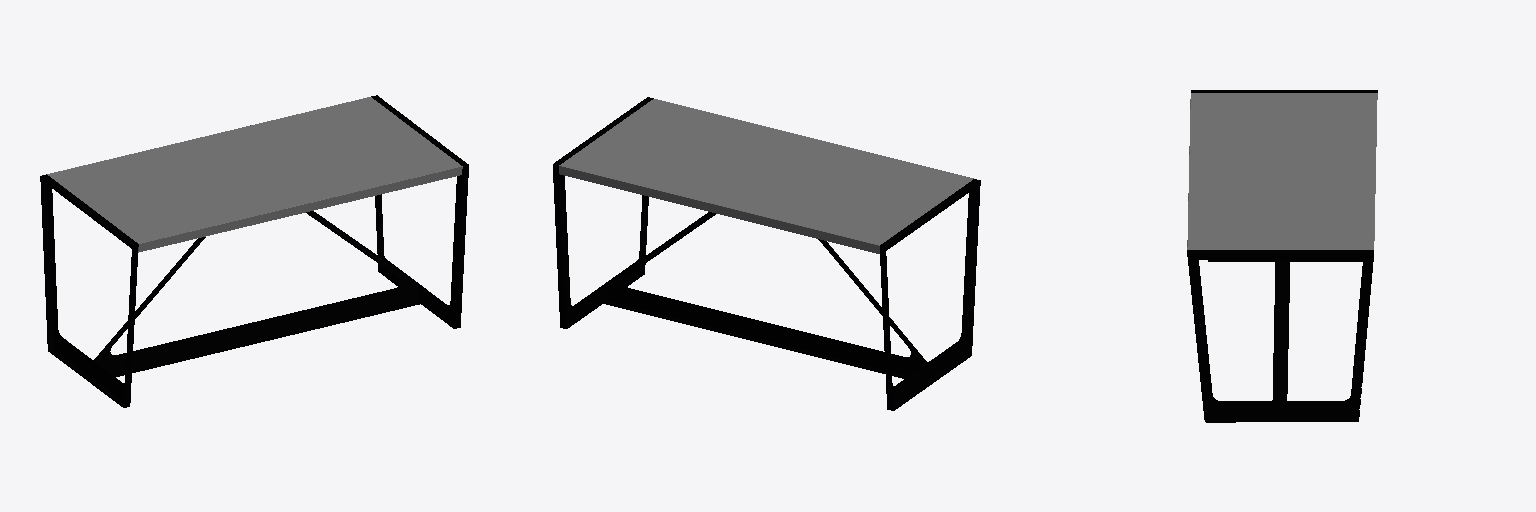
Rendered from table03.obj.
3 views of the same model, side by side, from view 1: azimuth 30°, elevation 25°; view 2: azimuth 150°, elevation 25°; view 3: azimuth 270°, elevation 25° (orthographic).
Parts seen in each view (by area): view 1: Object.1, Object.3, Object.2; view 2: Object.1, Object.3, Object.2; view 3: Object.1, Object.3.
Boxes of the visible parts, x1=… form: Object.1: x1=47, y1=97, x2=461, y2=243; Object.3: x1=40, y1=95, x2=468, y2=407; Object.2: x1=61, y1=166, x2=462, y2=252; Object.1: x1=559, y1=99, x2=972, y2=245; Object.3: x1=553, y1=97, x2=980, y2=410; Object.2: x1=559, y1=153, x2=973, y2=253; Object.1: x1=1187, y1=93, x2=1377, y2=249; Object.3: x1=1187, y1=90, x2=1377, y2=422.
Size of the model in its own units: 61.73 by 29.9 by 41.43.